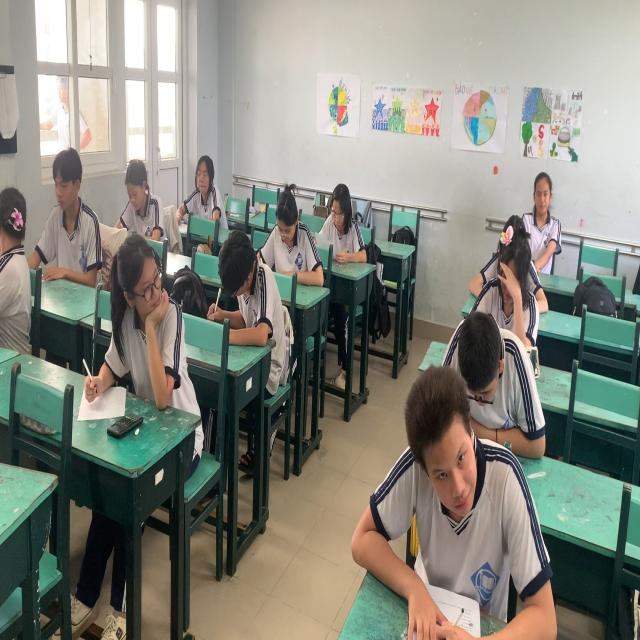cheating: (110, 237, 190, 435), (1, 172, 36, 359)
not_cheating: (410, 370, 510, 583), (45, 146, 107, 295), (218, 223, 284, 362), (446, 312, 517, 413), (250, 173, 308, 281), (484, 229, 532, 340), (319, 171, 374, 265), (116, 145, 170, 239), (528, 163, 568, 258), (180, 137, 217, 224)
